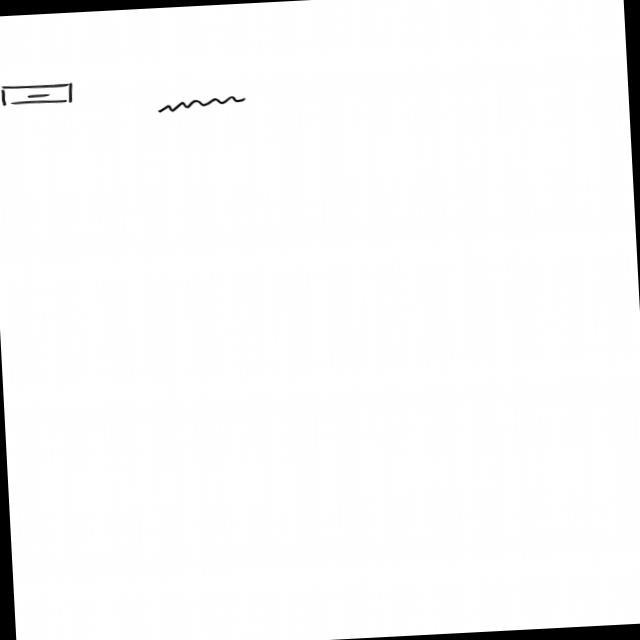icon-button: (1, 82, 76, 109)
text: (157, 94, 251, 116)
